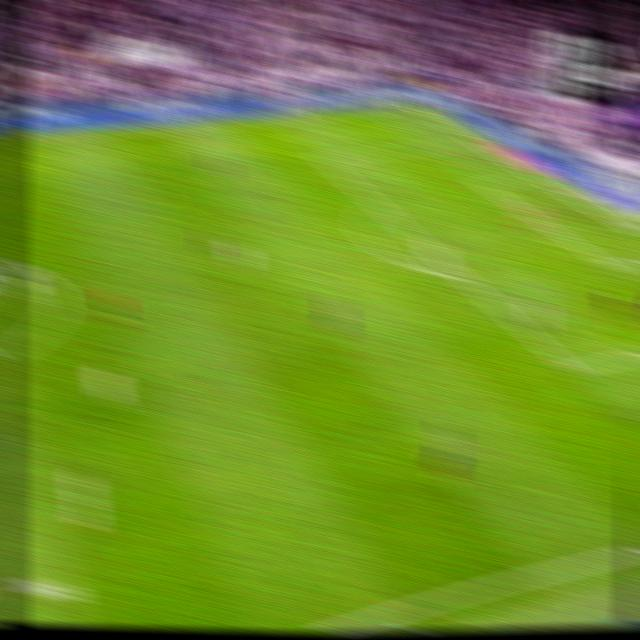bigarea_bottom_inner: (559, 356, 583, 381)
bigarea_top_inner: (315, 150, 335, 167)
bigarea_top_outter: (461, 132, 483, 148)
bottom_arc_area_intersection: (451, 267, 473, 285)
smallarea_bottom_inner: (600, 256, 623, 278)
smallarea_top_inner: (476, 178, 494, 190)
top_arc_area_intersection: (367, 196, 390, 215)
